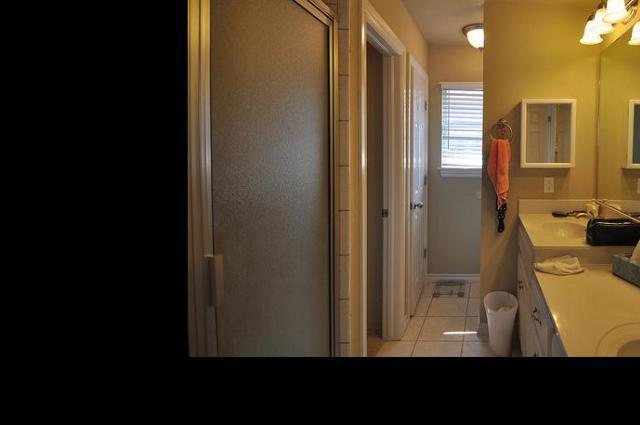Bote de Basura: (476, 288, 524, 354)
Ducha: (188, 0, 338, 356)
Lavamanos: (529, 199, 622, 243), (583, 302, 640, 356)
